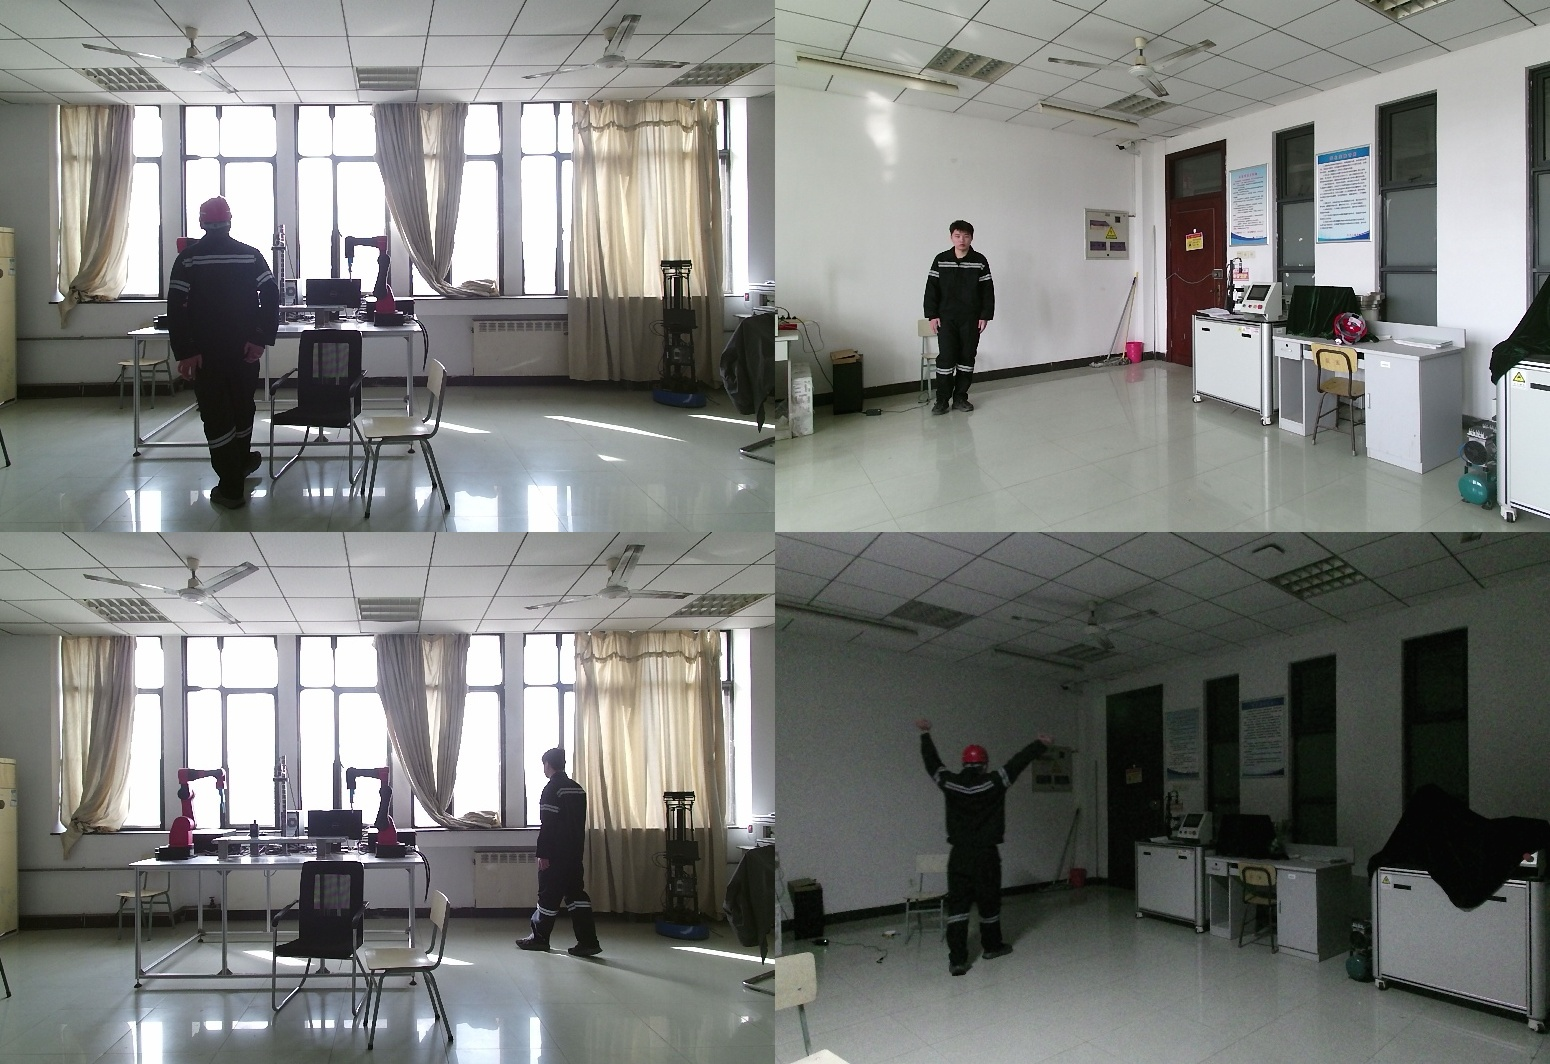person: (165, 198, 283, 509), (908, 718, 1045, 978), (520, 749, 608, 965), (919, 223, 995, 421)
